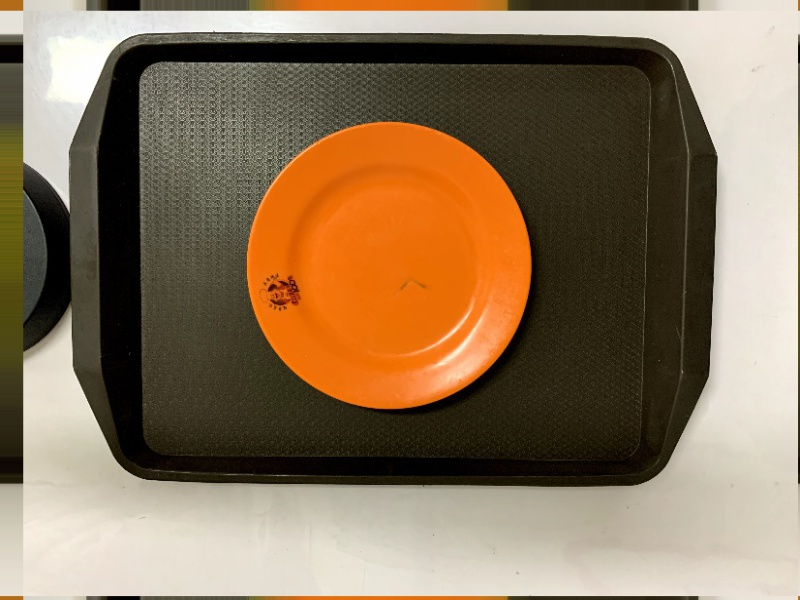dish10: (242, 117, 536, 413)
